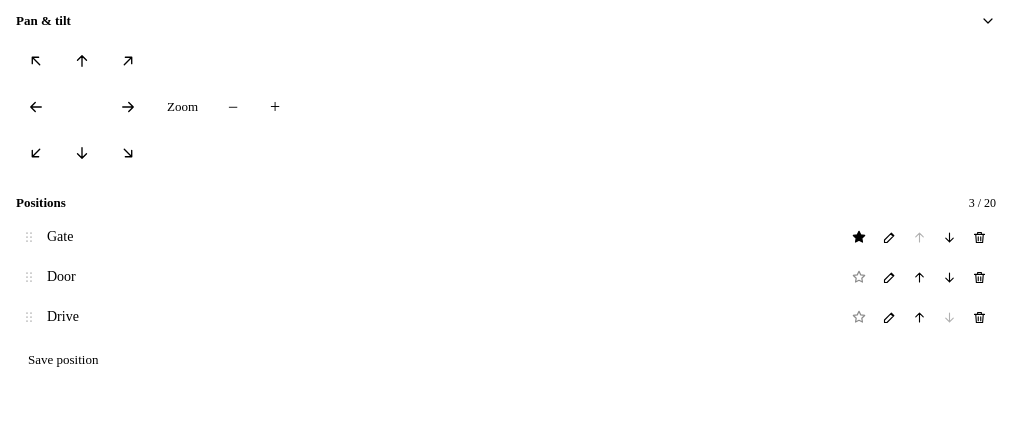
Test: PtzPanel positions › shows the proxy's name_taken as a message
Click the button "Save position" at [63, 360], box [16,345,110,375]
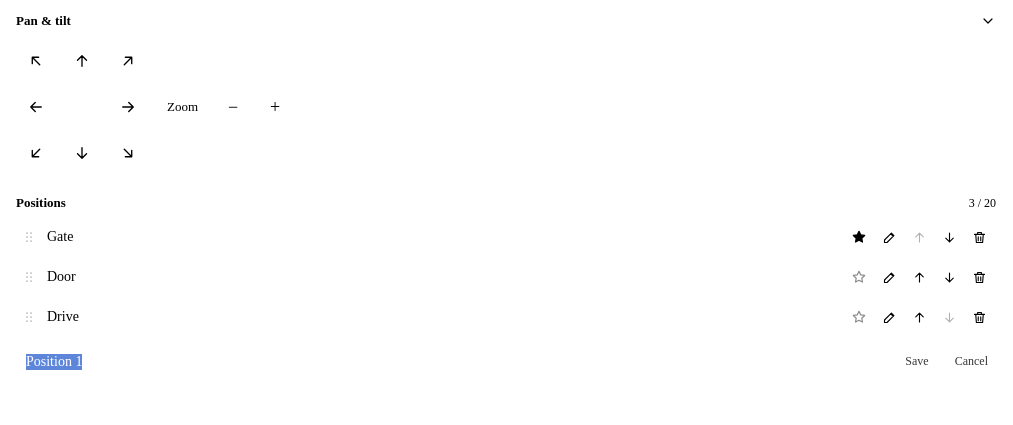
Replace the text in the field named "Name of the new position" with "Shed" at [454, 362], box [18,346,889,376]
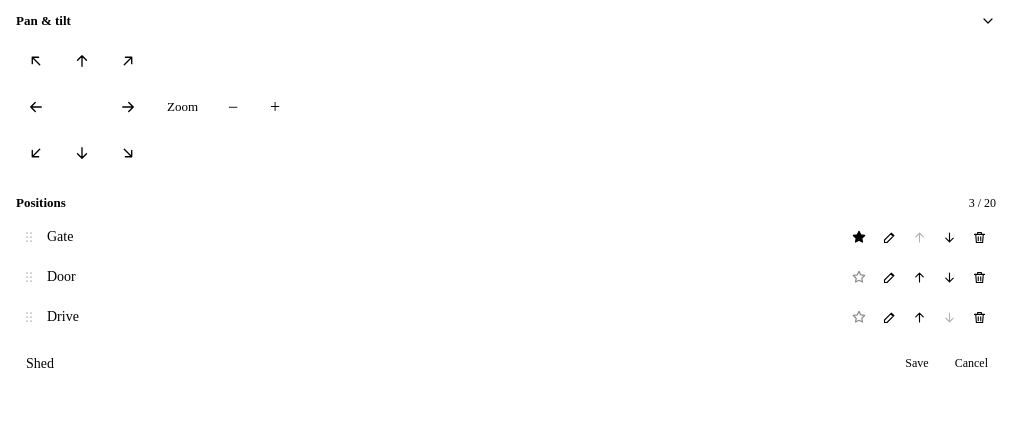
Press Enter in the field named "Name of the new position", box [18,349,889,379]
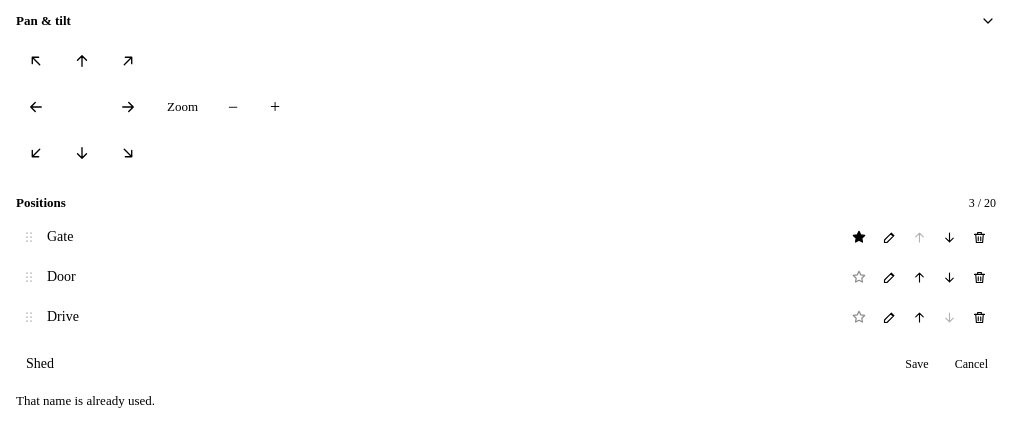
Check: the message "That name is already used." is shown, box [16,393,155,408]
